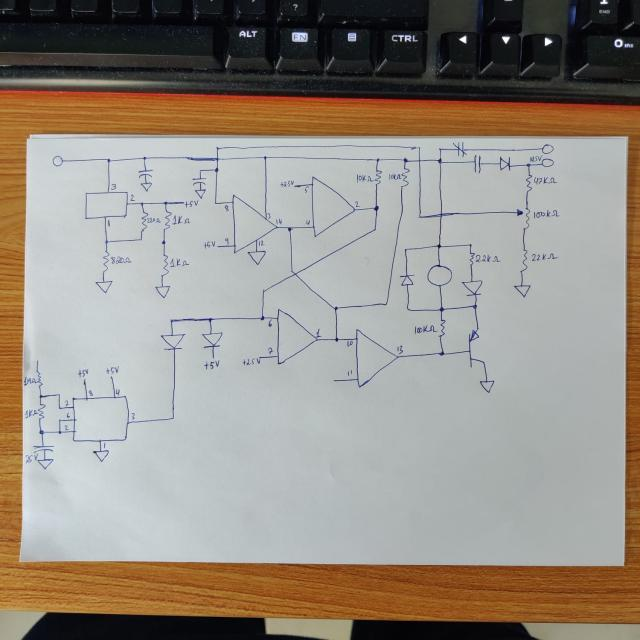capacitor: (31, 444, 55, 454), (137, 168, 154, 178), (191, 177, 207, 186)
crossover: (290, 270, 300, 277), (436, 210, 444, 218), (215, 156, 220, 162), (417, 158, 422, 163)
diode: (159, 332, 186, 351), (200, 330, 223, 350), (461, 278, 483, 298), (399, 273, 416, 286), (498, 155, 511, 172)
ground: (93, 278, 114, 294), (91, 447, 110, 463), (247, 250, 267, 265), (477, 378, 496, 393), (512, 284, 532, 298), (36, 458, 54, 470), (154, 285, 170, 298), (194, 188, 206, 199), (140, 182, 152, 192)
inductor: (426, 264, 452, 288)
junction: (37, 428, 45, 436), (435, 242, 442, 250), (104, 156, 112, 163), (372, 204, 379, 212), (471, 302, 478, 310), (438, 349, 446, 356), (416, 212, 423, 220), (438, 305, 446, 312), (140, 154, 148, 161), (414, 144, 422, 151), (332, 335, 339, 343), (402, 156, 409, 164), (102, 238, 110, 245), (258, 314, 266, 321), (206, 316, 213, 323), (402, 246, 409, 253), (382, 300, 389, 307), (436, 158, 443, 165), (332, 305, 340, 311), (285, 226, 293, 232), (261, 154, 268, 160), (168, 317, 175, 323), (372, 225, 378, 232), (405, 305, 412, 311), (213, 166, 220, 172), (170, 415, 176, 421), (162, 200, 168, 206), (138, 236, 144, 242), (437, 146, 443, 152), (260, 287, 265, 294), (466, 242, 473, 247), (374, 157, 380, 162), (214, 145, 220, 150), (525, 162, 531, 167), (57, 429, 62, 435), (57, 418, 62, 423), (161, 239, 166, 244), (140, 201, 144, 206), (198, 168, 202, 173), (38, 394, 43, 398), (214, 201, 218, 205), (57, 392, 61, 396), (57, 406, 61, 410)
resistor: (514, 204, 531, 230), (518, 245, 528, 273), (398, 168, 409, 188), (160, 254, 170, 276), (162, 209, 172, 231), (101, 250, 110, 274), (437, 317, 446, 340), (140, 211, 148, 232), (34, 370, 43, 388), (524, 174, 532, 193), (37, 404, 47, 419), (372, 170, 382, 184), (468, 250, 475, 266)
switch: (452, 142, 468, 158), (473, 153, 482, 174)
terminal: (52, 154, 64, 168), (540, 158, 554, 168), (541, 144, 554, 154), (332, 376, 340, 384), (293, 184, 298, 189), (34, 360, 39, 364), (215, 244, 219, 249), (182, 200, 186, 205), (211, 355, 215, 360), (82, 377, 86, 381), (110, 375, 114, 378), (258, 356, 261, 360)
text: (532, 208, 561, 219), (530, 251, 559, 261), (413, 323, 436, 334), (533, 176, 558, 186), (475, 253, 499, 263), (240, 356, 262, 366), (171, 214, 191, 225), (169, 258, 190, 268), (202, 358, 220, 369), (110, 255, 132, 264), (355, 172, 373, 182), (387, 172, 402, 182), (184, 199, 200, 208), (105, 364, 119, 374), (24, 408, 38, 418), (77, 367, 89, 378), (203, 240, 216, 250), (25, 453, 38, 463), (278, 179, 294, 187), (146, 216, 162, 223), (528, 154, 542, 162), (24, 376, 36, 385), (344, 338, 354, 348), (396, 343, 404, 354), (275, 216, 283, 226), (315, 327, 322, 338), (265, 346, 274, 354), (257, 239, 266, 247), (345, 368, 353, 377), (266, 319, 274, 327), (108, 182, 116, 190), (304, 218, 312, 226), (129, 412, 137, 420), (302, 185, 309, 194), (223, 237, 230, 246), (106, 218, 112, 228), (223, 204, 230, 212), (129, 194, 136, 202), (354, 200, 361, 208), (64, 399, 70, 407), (115, 388, 121, 396), (266, 212, 272, 220), (88, 389, 94, 396), (102, 441, 107, 449), (64, 424, 69, 431), (66, 411, 71, 418)
transistor: (466, 326, 488, 368)
